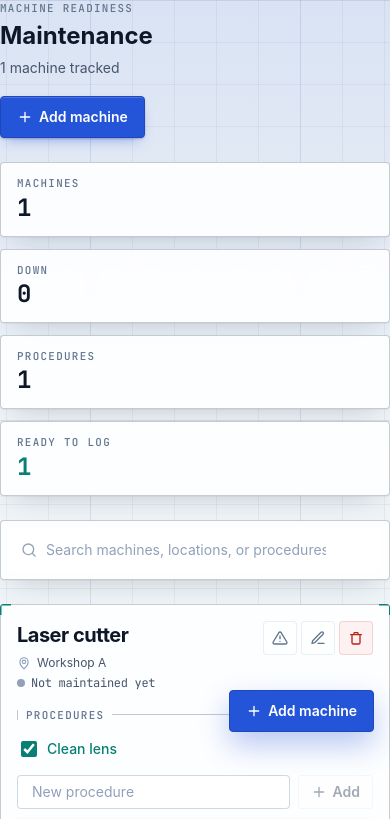
Scenario: floating add buttons › renders the Add Machine floating button on Maintenance and opens the add dialog
Click the 2nd button "Add machine" at (302, 711), box [229, 690, 374, 732]
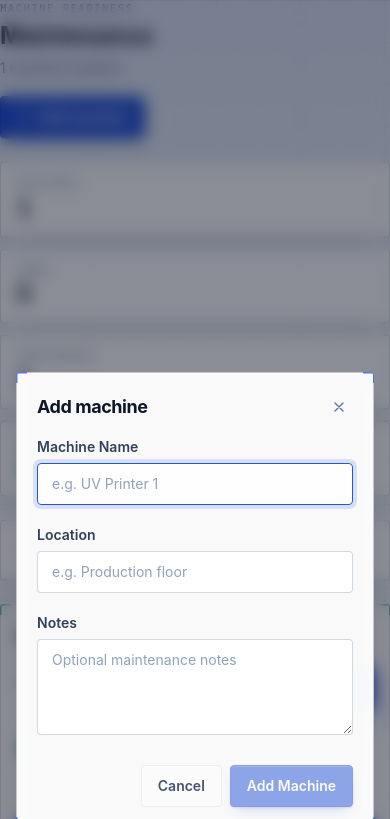
Expected: the dialog shows "Add machine", [37, 396, 148, 417]
